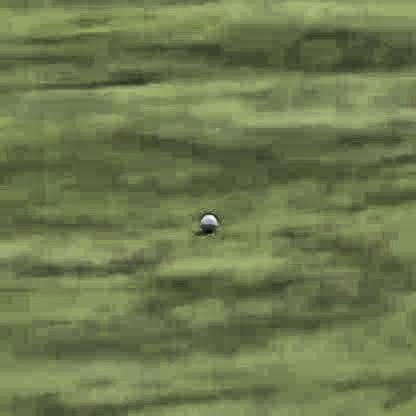golfball: (197, 212, 216, 231)
